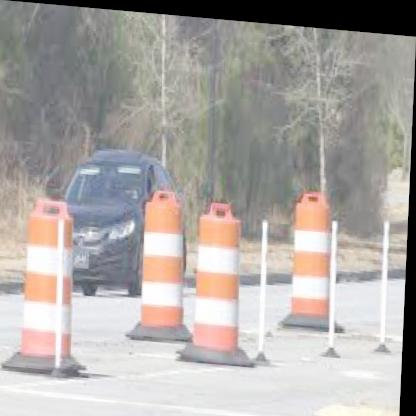obstacle: (22, 201, 85, 363), (191, 197, 249, 350), (141, 189, 191, 328), (294, 182, 343, 312)
